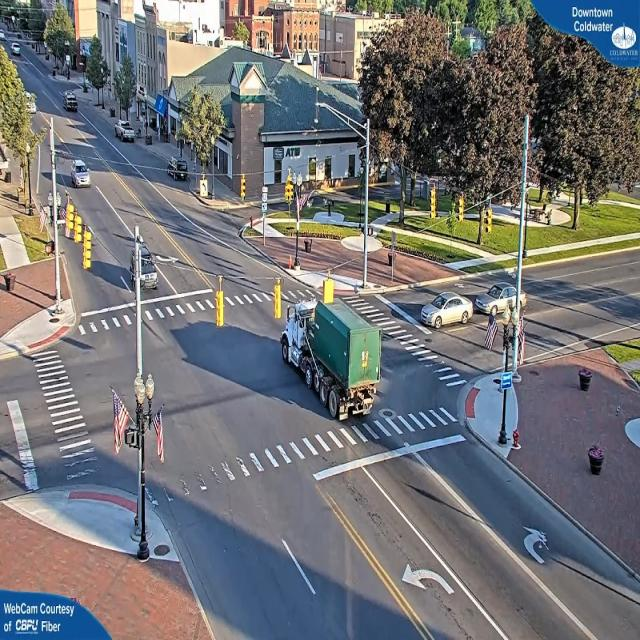car: (417, 295, 473, 325), (476, 287, 526, 315), (130, 248, 158, 291), (69, 159, 91, 190), (116, 123, 135, 143), (63, 93, 78, 113)
truck: (286, 288, 354, 422)
